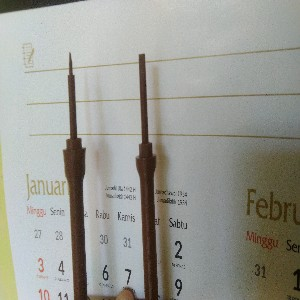obeng: (135, 53, 159, 300)
solder: (62, 50, 88, 300)
